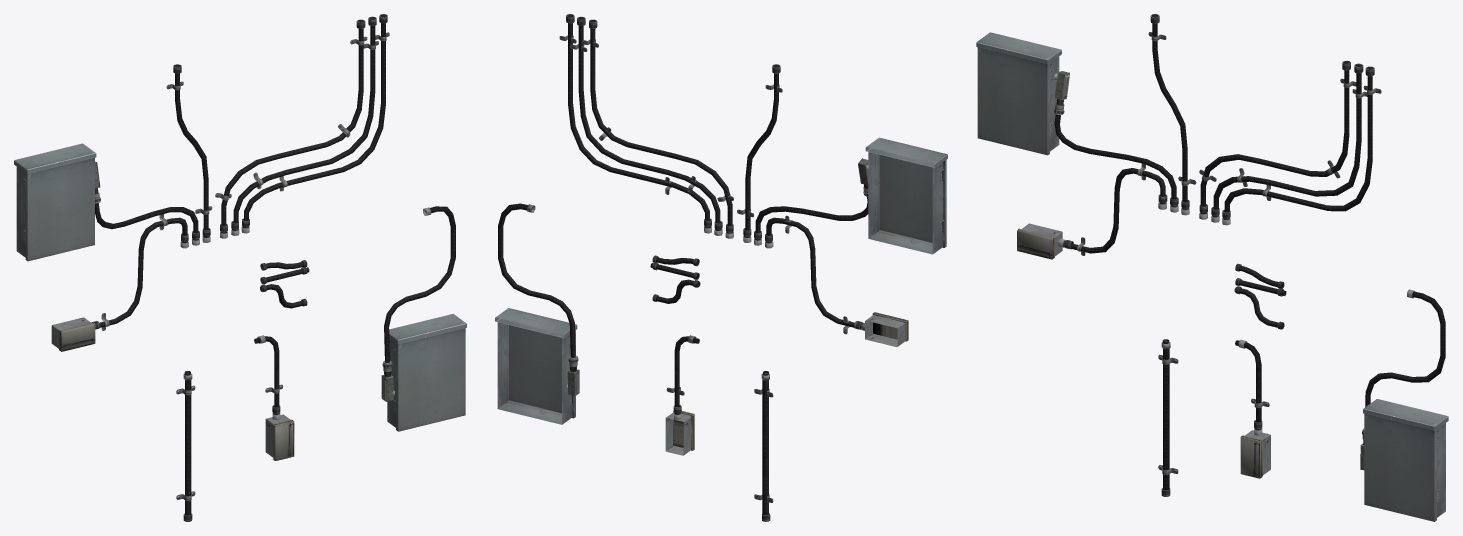
File: fuse_box-3_wires-3.FBX
3 views of the same model, side by side, from view 1: azimuth 30°, elevation 25°; view 2: azimuth 150°, elevation 25°; view 3: azimuth 330°, elevation 25° (orthographic). The views are drawn at different scales.
Visible parts, largest first — view 1: fuse_box-3D_LOD0; view 2: fuse_box-3D_LOD0; view 3: fuse_box-3D_LOD0.
Boxes of the visible parts, bbox=[...] form: fuse_box-3D_LOD0: bbox=[14, 14, 466, 521]; fuse_box-3D_LOD0: bbox=[495, 14, 947, 521]; fuse_box-3D_LOD0: bbox=[976, 14, 1448, 521].
Size of what is drawn, in the model's own units: 126 by 125 by 6.59.
